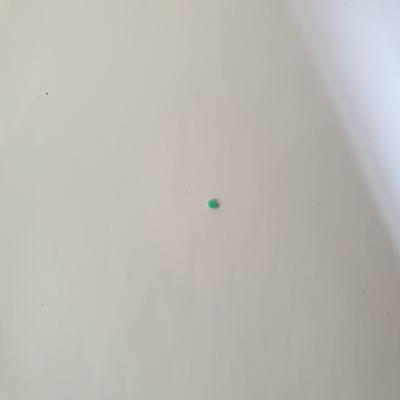plastic: (205, 197, 222, 211)
